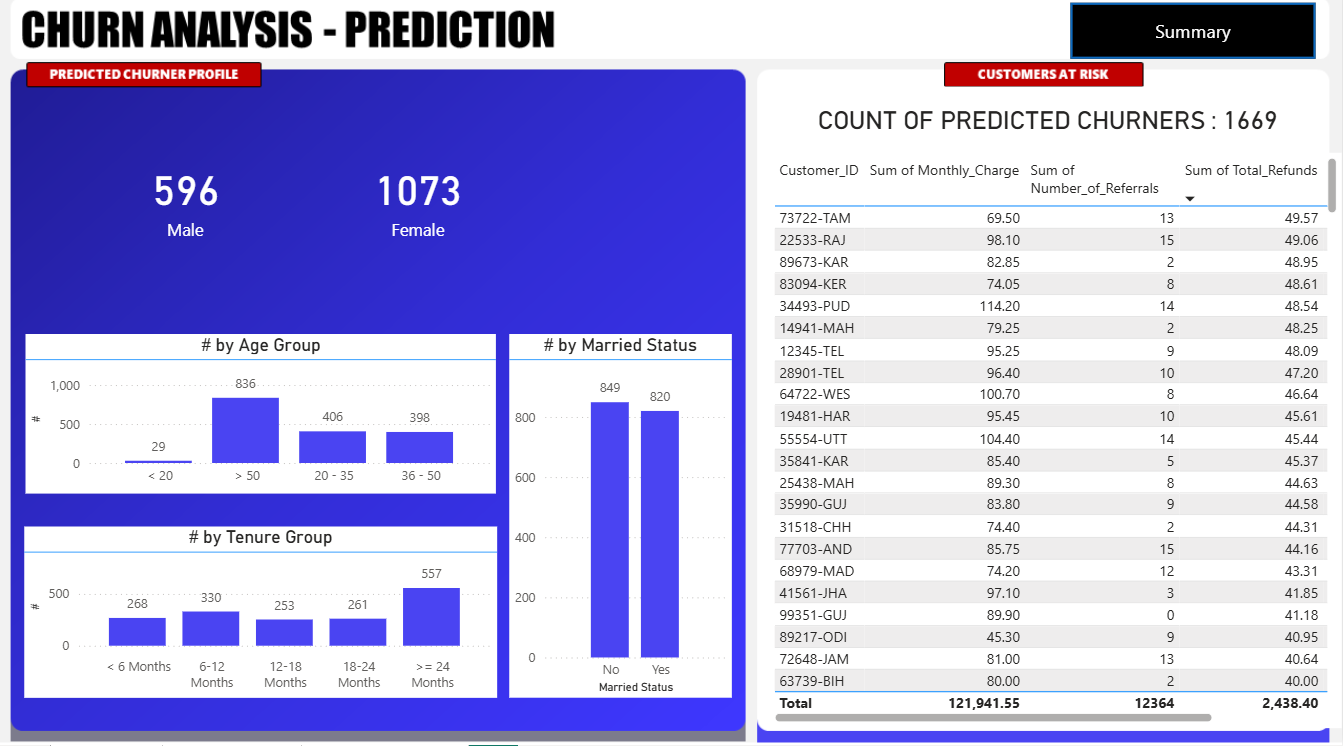

What the dashboard file says about the page in this screenshot:
{"tool":"powerbi","page":{"name":"churn predection","canvas":[1280,720],"ordinal":2},"visuals":[{"type":"tableEx","fields":{"Values":["Predictions.Customer_ID","Sum(Predictions.Monthly_Charge)","Sum(Predictions.Number_of_Referrals)","Sum(Predictions.Total_Refunds)","Sum(Predictions.Total_Revenue)"]},"box":[733.3,156,546.4,547.6],"z":0},{"type":"card","fields":{"Values":["tbl_Measures.Title Predicted Churners"]},"box":[733.3,93.3,533.3,63.3],"z":1000},{"type":"card","fields":{"Values":["tbl_Measures.Count Predicted Churner"]},"box":[295,138.3,210,121.7],"z":2000},{"type":"card","fields":{"Values":["tbl_Measures.Count Predicted Churner"]},"box":[61.7,153.3,233.3,91.7],"z":3000},{"type":"clusteredColumnChart","fields":{"Category":["mapping_AgeGrp.Age Group "],"Y":["CountNonNull(Predictions.Customer_ID)"]},"box":[26.7,328.3,448.3,151.7],"z":4000},{"type":"clusteredColumnChart","fields":{"Category":["Predictions.Married"],"Y":["CountNonNull(Predictions.Customer_ID)"]},"box":[486.7,328.3,211.7,346.7],"z":5000},{"type":"clusteredColumnChart","fields":{"Y":["CountNonNull(Predictions.Customer_ID)"],"Category":["mapping_TenureGrp.Tenure Group "]},"box":[25,511.7,450,163.3],"z":6000},{"type":"shape","box":[1021.7,13.3,233.3,53.3],"z":7000}]}

Visuals, with their boxes in screenshot pixels (x1, y1, x2, y2), scaled from the page's 1280x720 canvas onto the 1343x746 screenshot:
tableEx - Predictions.Customer_ID x Sum(Predictions.Monthly_Charge): (x1=769, y1=162, x2=1342, y2=729)
card - tbl_Measures.Title Predicted Churners: (x1=769, y1=97, x2=1329, y2=162)
card - tbl_Measures.Count Predicted Churner: (x1=310, y1=143, x2=530, y2=269)
card - tbl_Measures.Count Predicted Churner: (x1=65, y1=159, x2=310, y2=254)
clusteredColumnChart - mapping_AgeGrp.Age Group  x CountNonNull(Predictions.Customer_ID): (x1=28, y1=340, x2=498, y2=497)
clusteredColumnChart - Predictions.Married x CountNonNull(Predictions.Customer_ID): (x1=511, y1=340, x2=733, y2=699)
clusteredColumnChart - CountNonNull(Predictions.Customer_ID) x mapping_TenureGrp.Tenure Group : (x1=26, y1=530, x2=498, y2=699)
shape: (x1=1072, y1=14, x2=1317, y2=69)
